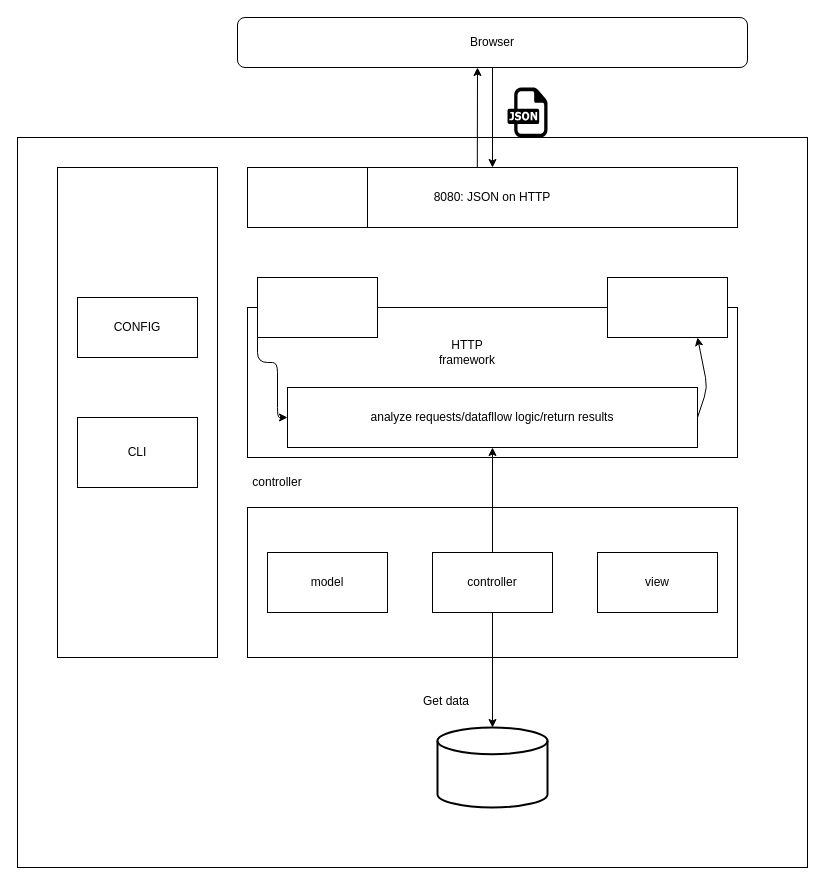
Some shapes in this 825 by 885 pixel diagram are drawn without their labels. The shapes that lost their labels are listed below. From the top down, each one's centre as x and y in pixels, then its label:
At (x=307, y=197): "HTTP Server".
At (x=317, y=307): "HTTP Request".
At (x=667, y=307): "HTTP response".
At (x=492, y=767): "MySQL".
